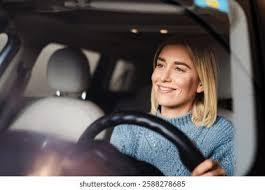Awake: (144, 32, 224, 130)
